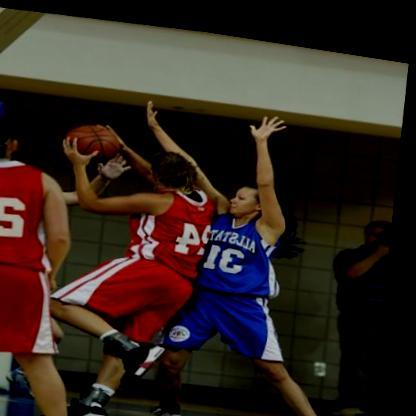basketball: (67, 116, 130, 164)
